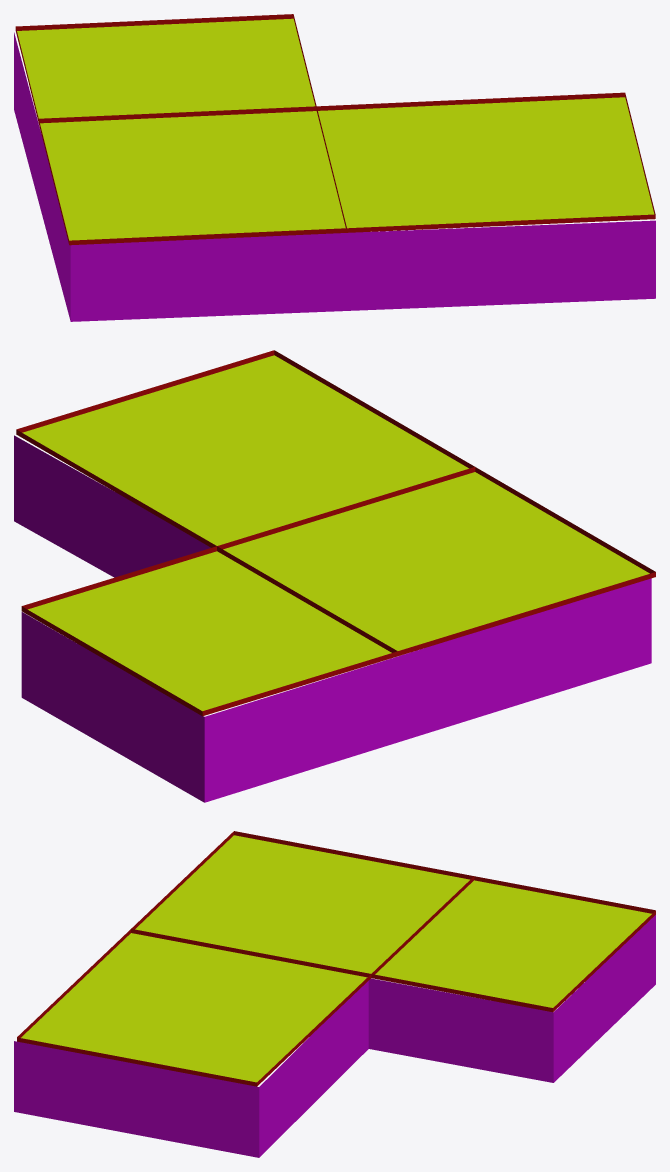
The model's file is bgj_36.glb.
3 renders of one model, top to bottom at view 1: azimuth 30°, elevation 25°; view 2: azimuth 150°, elevation 25°; view 3: azimuth 270°, elevation 25°, orthographic. The views are drawn at different scales.
Visible parts, largest first — view 1: bgj_36; view 2: bgj_36; view 3: bgj_36.
Part boxes in pixels (bbox=[...]): bgj_36: bbox=[14, 14, 655, 321]; bgj_36: bbox=[14, 350, 655, 802]; bgj_36: bbox=[14, 831, 655, 1157].
Size of the model in its own units: 44.94 by 6.25 by 48.41.
